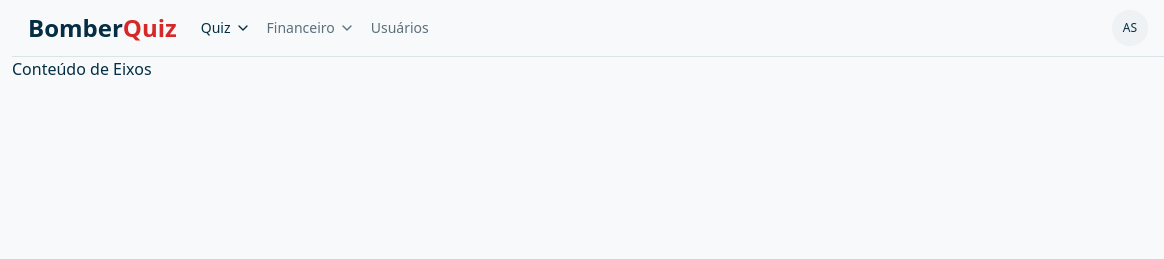
Test case: PanelLayout › leva à assinatura pelo menu do perfil, também no painel administrativo
Expected: the text "Conteúdo de Eixos" is shown, [12,58,152,80]
Click the button with aria-label "Conta de Ana Souza": (1130, 28) [1112,10,1148,46]
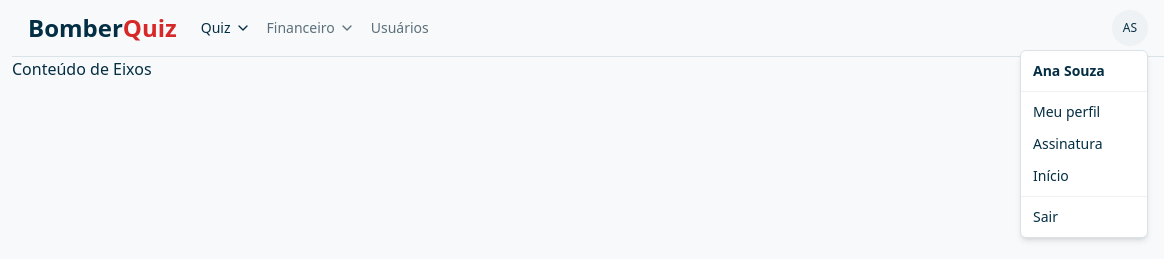
Expected: the menu item "Assinatura" is shown, [1033,134,1102,153]
